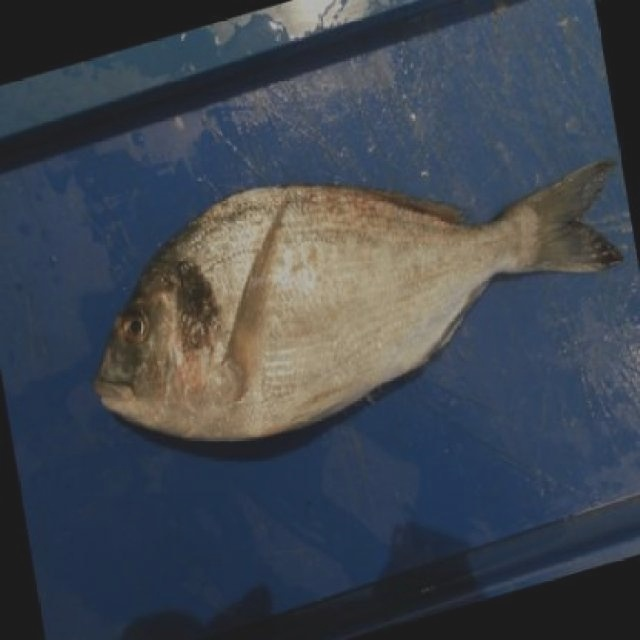Healthy Fish: (94, 163, 621, 463)
